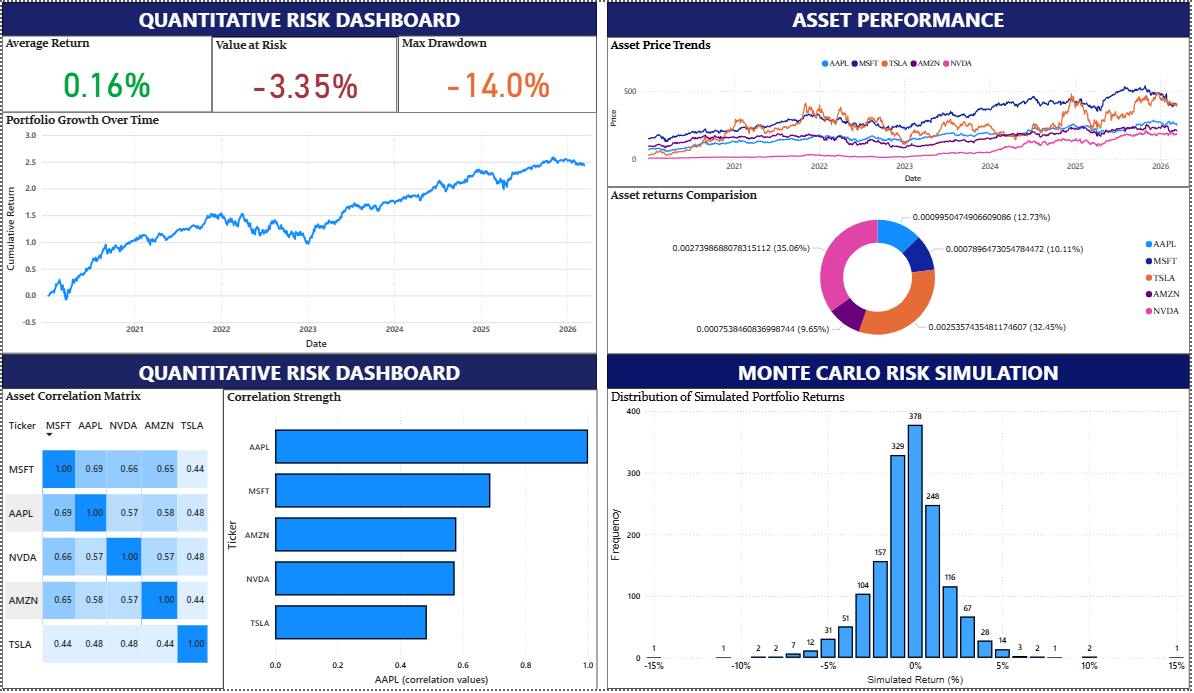

The dashboard page shown, as its layout file describes it:
{"tool":"powerbi","page":{"name":"FINAL DASHBOARD","canvas":[1900,1100],"ordinal":0},"visuals":[{"type":"textbox","box":[0,0,951.9,55.8],"z":0},{"type":"card","title":"Average Return","fields":{"Values":["portfolio_returns.Average Return"]},"box":[0,54.7,335.8,122.6],"z":1000},{"type":"card","title":"Value at Risk","fields":{"Values":["portfolio_returns.VaR"]},"box":[336.5,55.8,296.2,121.2],"z":2000},{"type":"card","title":"Max Drawdown","fields":{"Values":["portfolio_returns.Max Drawdown"]},"box":[634.6,53.8,317.3,123.1],"z":3000},{"type":"lineChart","title":"Portfolio Growth Over Time","fields":{"Category":["portfolio_returns.Date"],"Y":["portfolio_returns.Cumulative Return"]},"box":[0,176.9,951.9,386.5],"z":4000},{"type":"textbox","box":[967.9,0,932.1,56.6],"z":5000},{"type":"lineChart","title":"Asset Price Trends","fields":{"Category":["market_prices.Date"],"Y":["Sum(market_prices.AAPL)","Sum(market_prices.MSFT)","Sum(market_prices.TSLA)","Sum(market_prices.AMZN)","Sum(market_prices.NVDA)"]},"box":[967.9,56.6,932.1,239.6],"z":6000},{"type":"donutChart","title":"Asset returns Comparision","fields":{"Y":["Avg(market_returns.AAPL)","Avg(market_returns.MSFT)","Avg(market_returns.TSLA)","Avg(market_returns.AMZN)","Avg(market_returns.NVDA)"]},"box":[967.3,296.2,932.7,267.3],"z":7000},{"type":"textbox","box":[0,563.5,951.9,55.8],"z":8000},{"type":"pivotTable","title":"Asset Correlation Matrix","fields":{"Values":["Sum(correlation_matrix.MSFT)","Sum(correlation_matrix.AAPL)","Sum(correlation_matrix.NVDA)","Sum(correlation_matrix.AMZN)","Sum(correlation_matrix.TSLA)"],"Rows":["correlation_matrix.Ticker"]},"box":[0,618.9,354.7,481.1],"z":9000},{"type":"clusteredBarChart","title":"Correlation Strength","fields":{"Category":["correlation_matrix.Ticker"],"Y":["Sum(correlation_matrix.AAPL)"]},"box":[353.8,619.2,598.1,480.8],"z":10000},{"type":"textbox","box":[967.9,564.2,932.1,54.7],"z":11000},{"type":"clusteredColumnChart","title":"Distribution of Simulated Portfolio Returns","fields":{"Category":["portfolio_returns.Return (bins)"],"Y":["CountNonNull(portfolio_returns.Return)"]},"box":[967.9,618.9,932.1,481.1],"z":12000}]}

Visuals, with their boxes in screenshot pixels (x1, y1, x2, y2), scaled from the page's 1900x1100 canvas onto the 1194x693 screenshot:
textbox: (0, 0, 598, 35)
"Average Return" card: (0, 34, 211, 112)
"Value at Risk" card: (211, 35, 398, 112)
"Max Drawdown" card: (399, 34, 598, 111)
"Portfolio Growth Over Time" lineChart: (0, 111, 598, 355)
textbox: (608, 0, 1193, 36)
"Asset Price Trends" lineChart: (608, 36, 1193, 187)
"Asset returns Comparision" donutChart: (608, 187, 1193, 355)
textbox: (0, 355, 598, 390)
"Asset Correlation Matrix" pivotTable: (0, 390, 223, 692)
"Correlation Strength" clusteredBarChart: (222, 390, 598, 692)
textbox: (608, 355, 1193, 390)
"Distribution of Simulated Portfolio Returns" clusteredColumnChart: (608, 390, 1193, 692)
